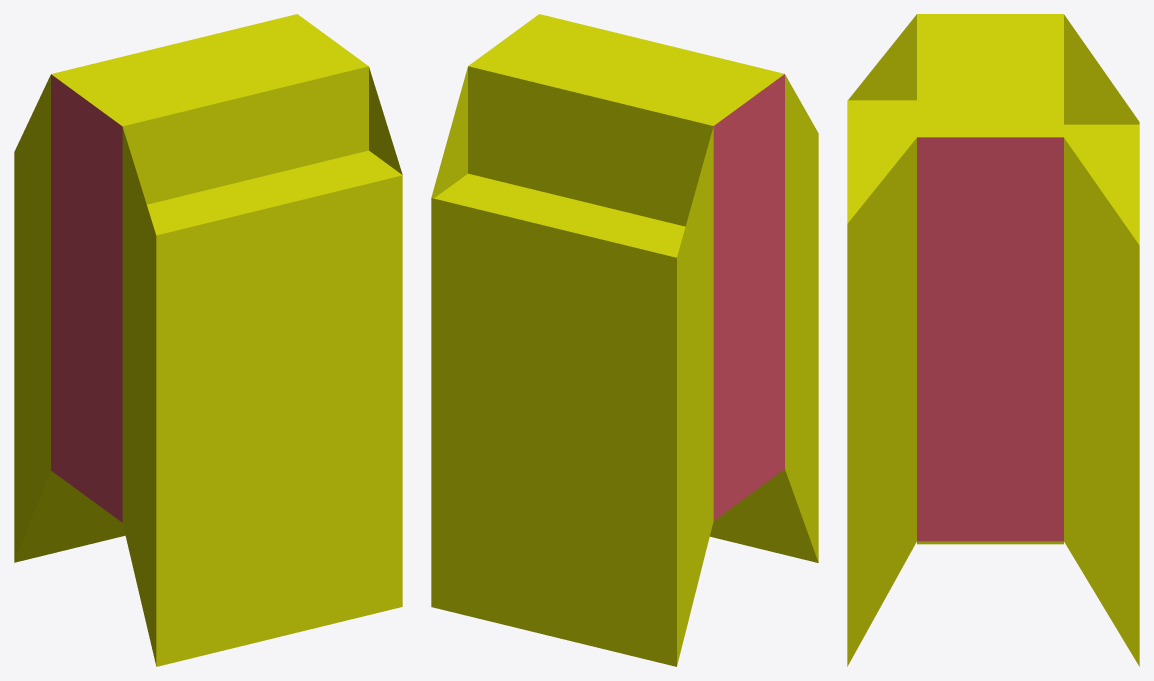
Rendered from player.glb.
The picture shows the model from 3 angles, left to right: view 1: azimuth 30°, elevation 25°; view 2: azimuth 150°, elevation 25°; view 3: azimuth 270°, elevation 25°; orthographic projection. The views are drawn at different scales.
Parts seen in each view (by area): view 1: player; view 2: player; view 3: player.
Part boxes in pixels (<box>): player: <box>14,14,402,666</box>; player: <box>431,14,818,666</box>; player: <box>847,14,1139,666</box>.
Size of the model in its own units: 1 by 2 by 1.
